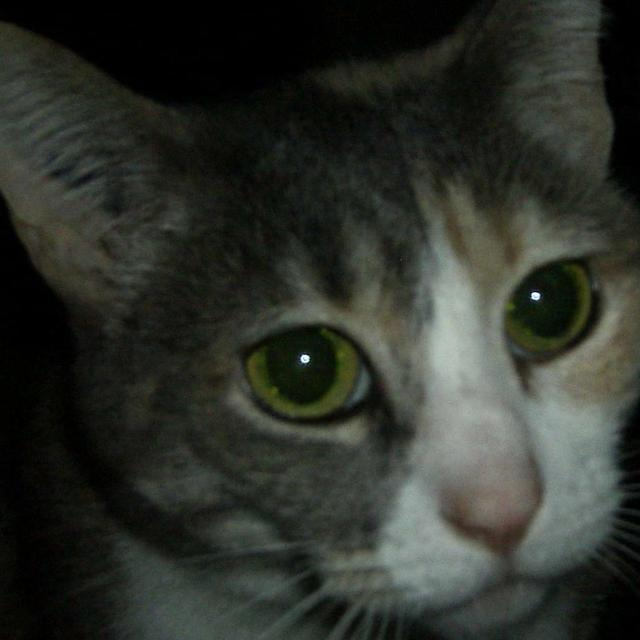animals: (0, 0, 600, 542)
